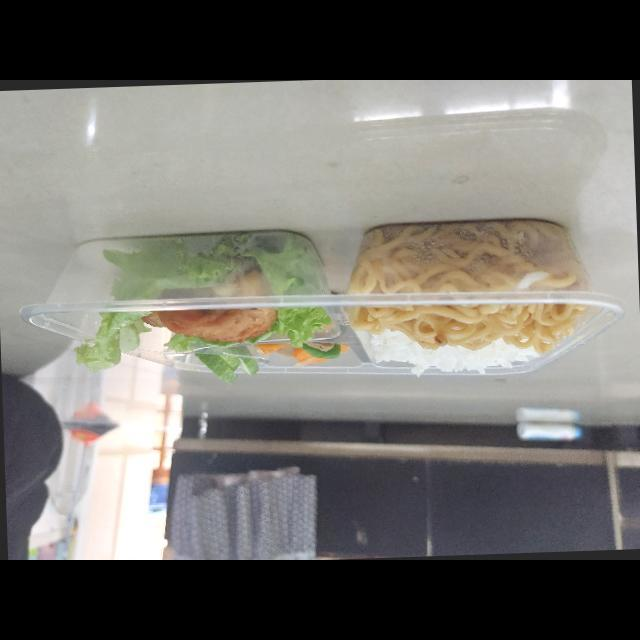bento: (10, 213, 635, 381)
